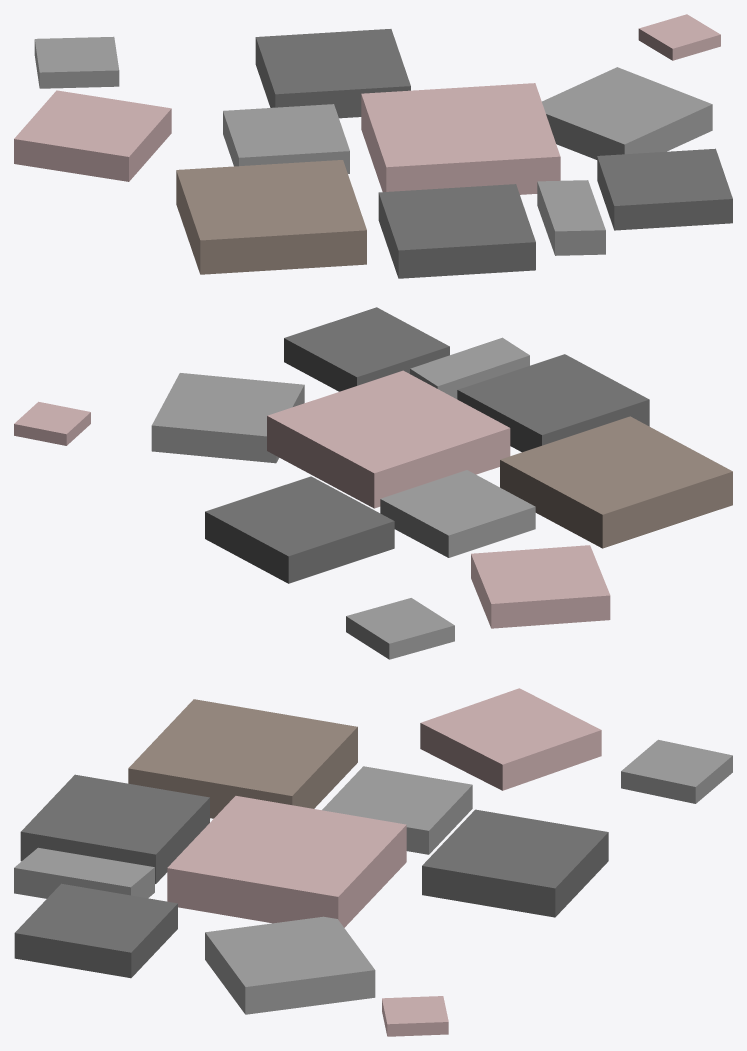
The model's file is cailloux_small.glb.
The picture shows the model from 3 angles, top to bottom: view 1: azimuth 30°, elevation 25°; view 2: azimuth 150°, elevation 25°; view 3: azimuth 270°, elevation 25°; orthographic projection. The views are drawn at different scales.
Parts seen in each view (by area): view 1: Cube.026; view 2: Cube.026; view 3: Cube.026.
Boxes of the visible parts, left/top/right/bottom form: Cube.026: left=14, top=14, right=732, bottom=278; Cube.026: left=14, top=307, right=732, bottom=659; Cube.026: left=14, top=688, right=732, bottom=1036.
Bounding box in the file's own units: 4.02 × 0.2841 × 3.71.
